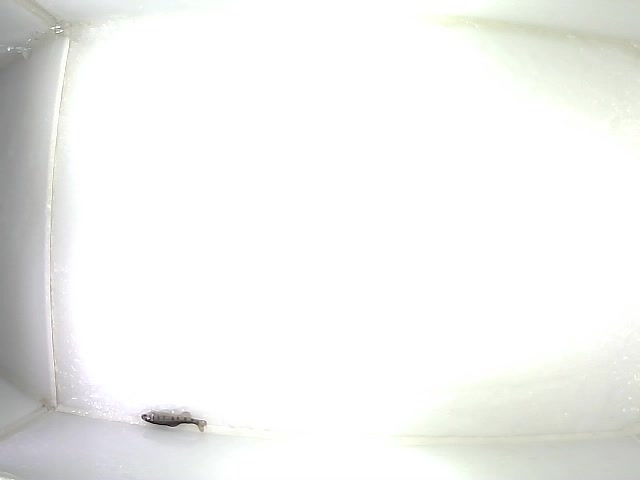fish: (140, 408, 208, 433)
